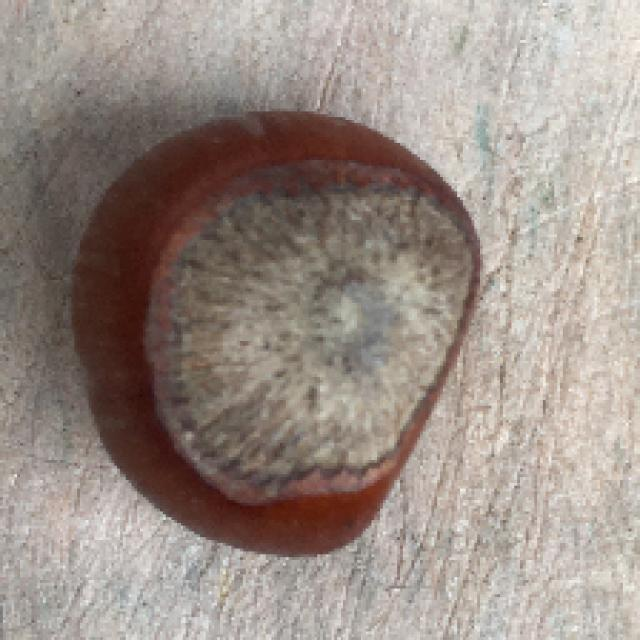qualityHazelnut: (66, 103, 487, 558)
